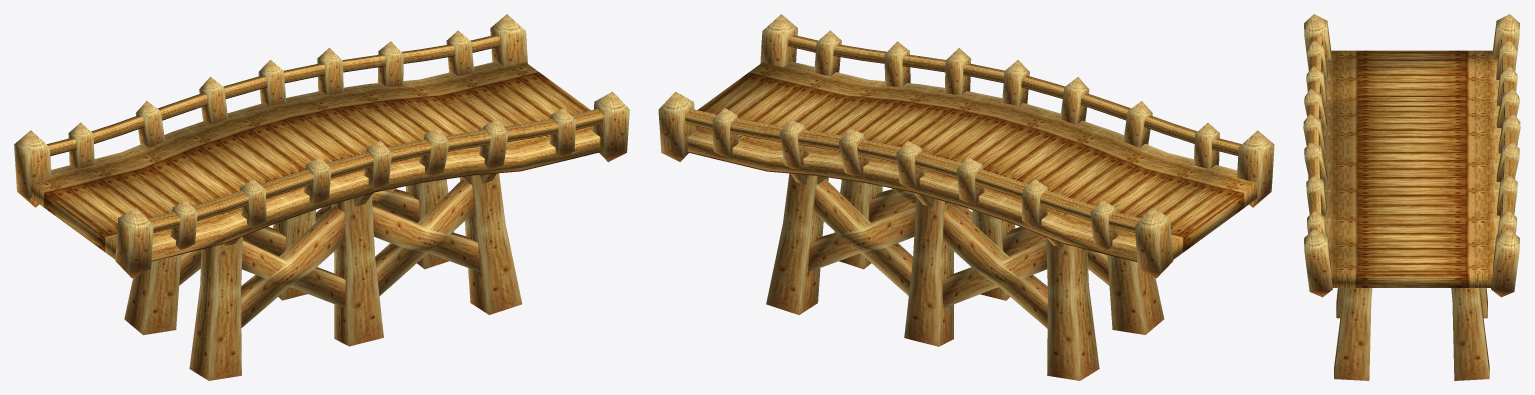
File: elwynnwidebridge_set0.obj
The picture shows the model from 3 angles, left to right: view 1: azimuth 30°, elevation 25°; view 2: azimuth 150°, elevation 25°; view 3: azimuth 270°, elevation 25°; orthographic projection. The views are drawn at different scales.
Visible parts, largest first — view 1: ElwynnWideBridge0, ElwynnWideBridge1; view 2: ElwynnWideBridge0, ElwynnWideBridge1; view 3: ElwynnWideBridge1, ElwynnWideBridge0.
Boxes of the visible parts, left/top/right/bottom form: ElwynnWideBridge0: left=14, top=14, right=629, bottom=380; ElwynnWideBridge1: left=31, top=35, right=603, bottom=261; ElwynnWideBridge0: left=658, top=14, right=1274, bottom=380; ElwynnWideBridge1: left=685, top=35, right=1257, bottom=261; ElwynnWideBridge1: left=1307, top=35, right=1516, bottom=287; ElwynnWideBridge0: left=1303, top=14, right=1520, bottom=380.
Size of the model in its own units: 26.26 by 10.85 by 10.69.
Materials: 2 (2 with a texture image).
